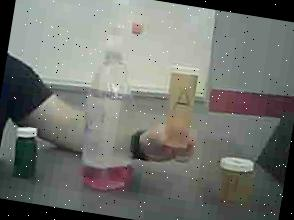Bottle A: (150, 58, 210, 163)
Bottle B: (207, 147, 268, 220)
Bottle C: (7, 119, 44, 182)
hazard: (68, 2, 158, 204)
